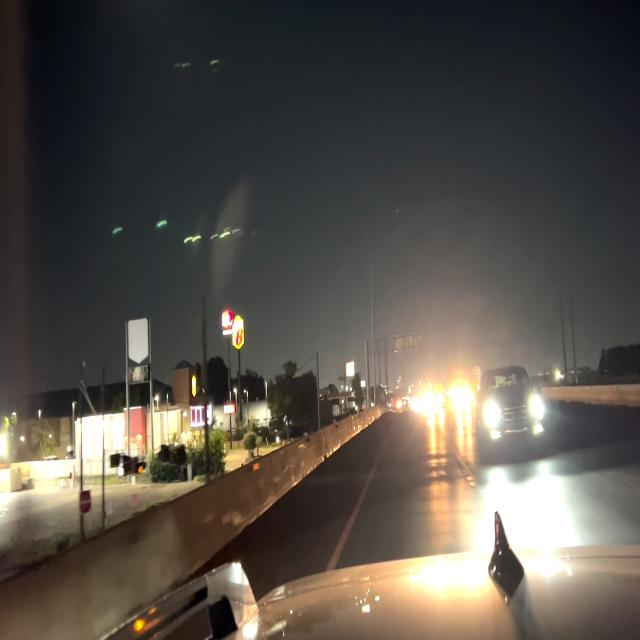back-of-sign: (393, 330, 424, 359)
